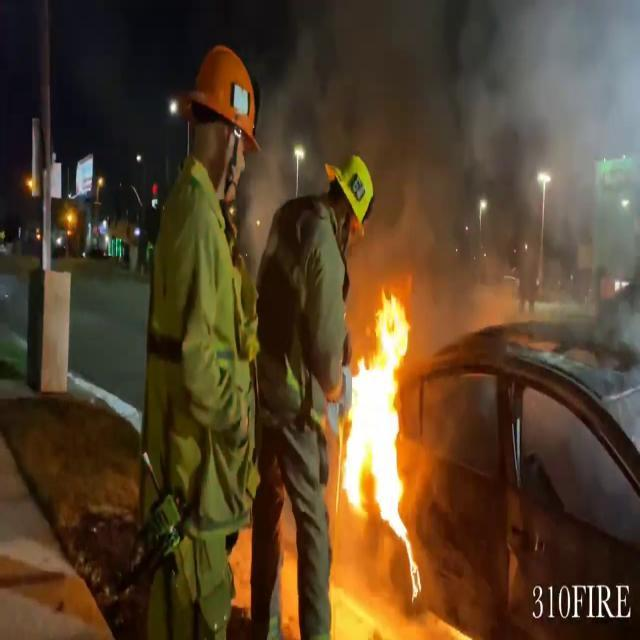Fire: (337, 285, 425, 603)
Smoke: (256, 0, 640, 326)
